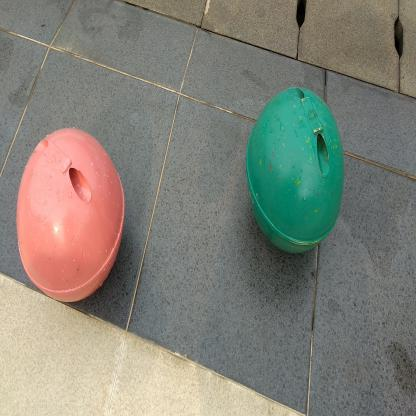green_buoy: (240, 82, 347, 262)
red_buoy: (13, 120, 131, 313)
